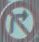Don't turn right: (2, 0, 38, 39)
